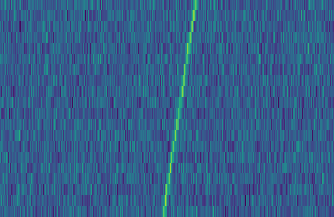signal: (158, 0, 201, 217)
